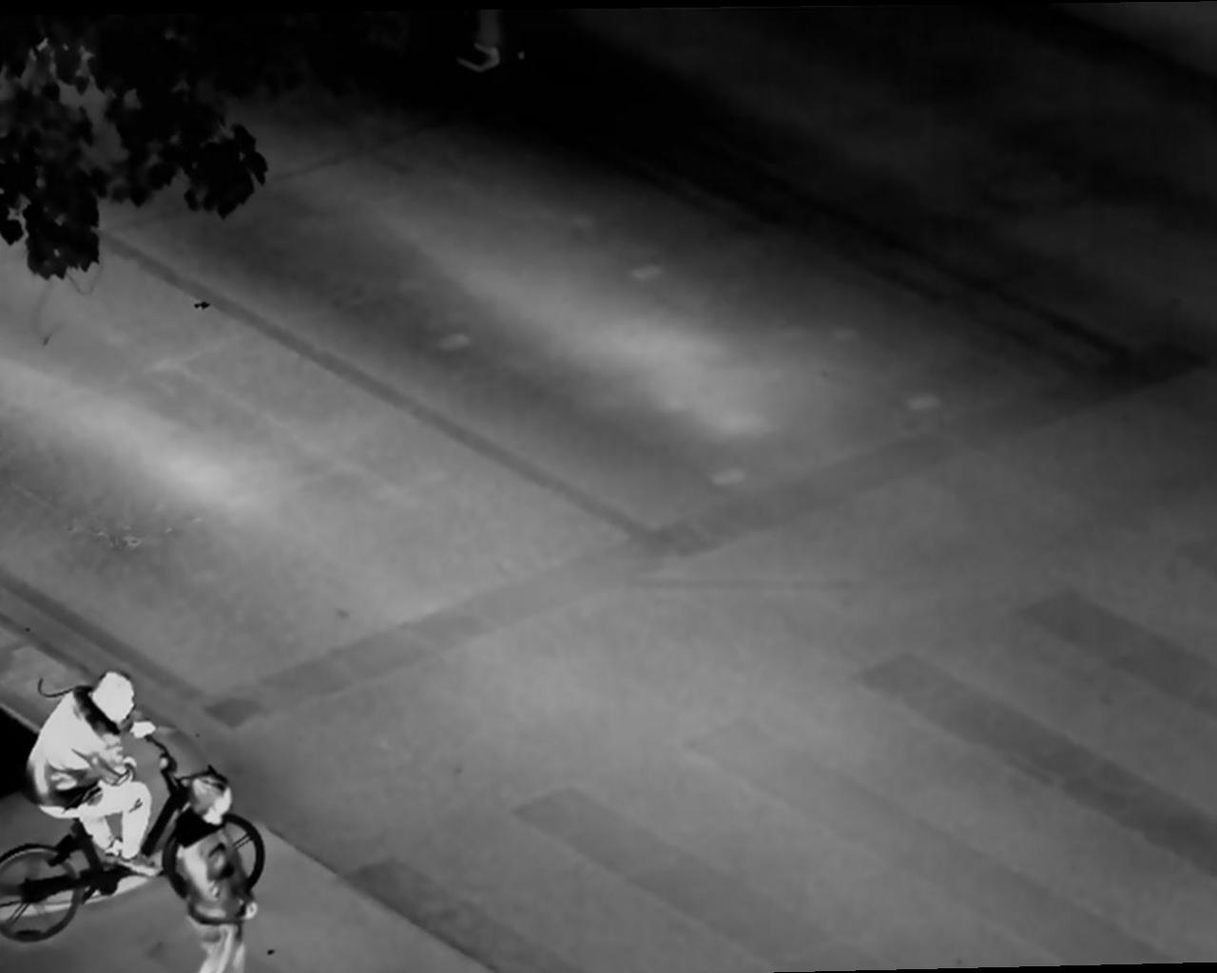person: (26, 672, 174, 879), (166, 775, 271, 973)
